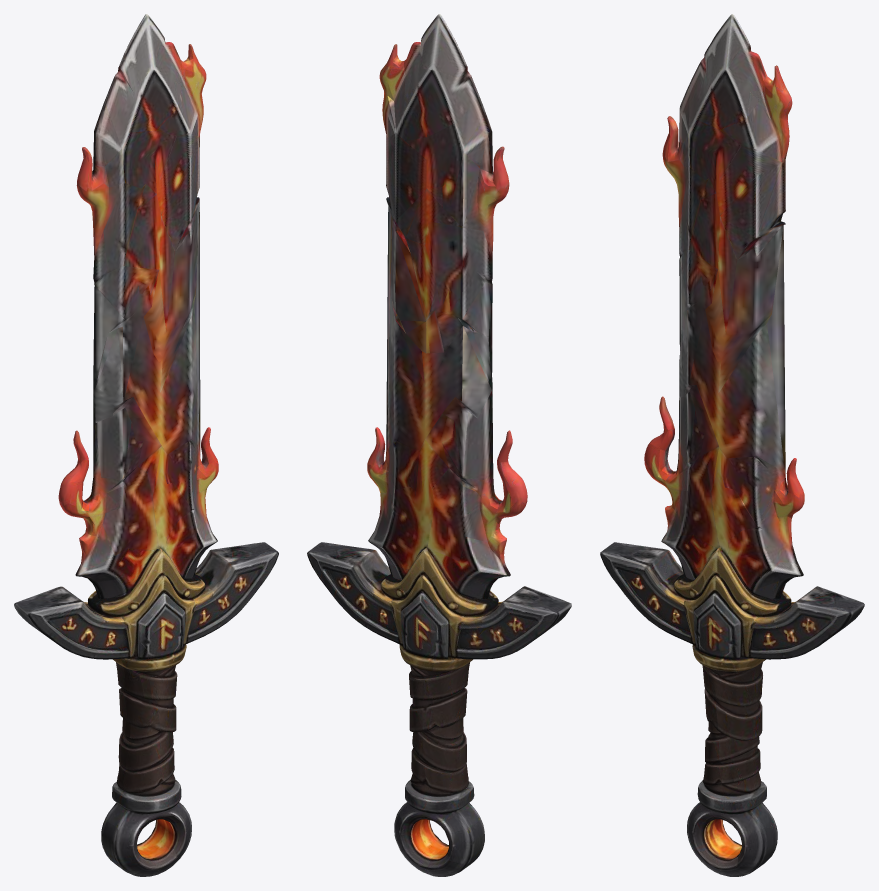
The model's file is espada_jin_vermelha.glb.
3 views of the same model, side by side, from view 1: azimuth 30°, elevation 25°; view 2: azimuth 150°, elevation 25°; view 3: azimuth 330°, elevation 25° (orthographic).
Parts seen in each view (by area): view 1: output_unwrapped; view 2: output_unwrapped; view 3: output_unwrapped.
Boxes of the visible parts, box(x1,y1,x2,y2) form: output_unwrapped: box(14, 14, 278, 876); output_unwrapped: box(307, 14, 571, 876); output_unwrapped: box(600, 14, 864, 876).
Bounding box in the file's own units: 0.3539 × 1.15 × 0.098.
Materials: 1 (1 with a texture image).
